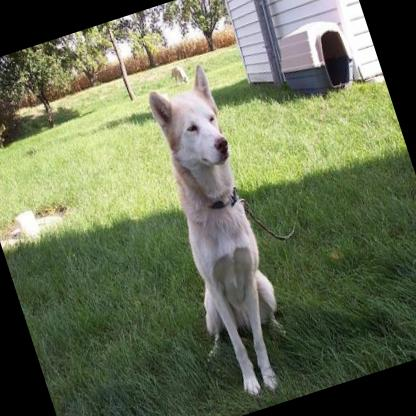Siberian_husky: (117, 61, 304, 407)
